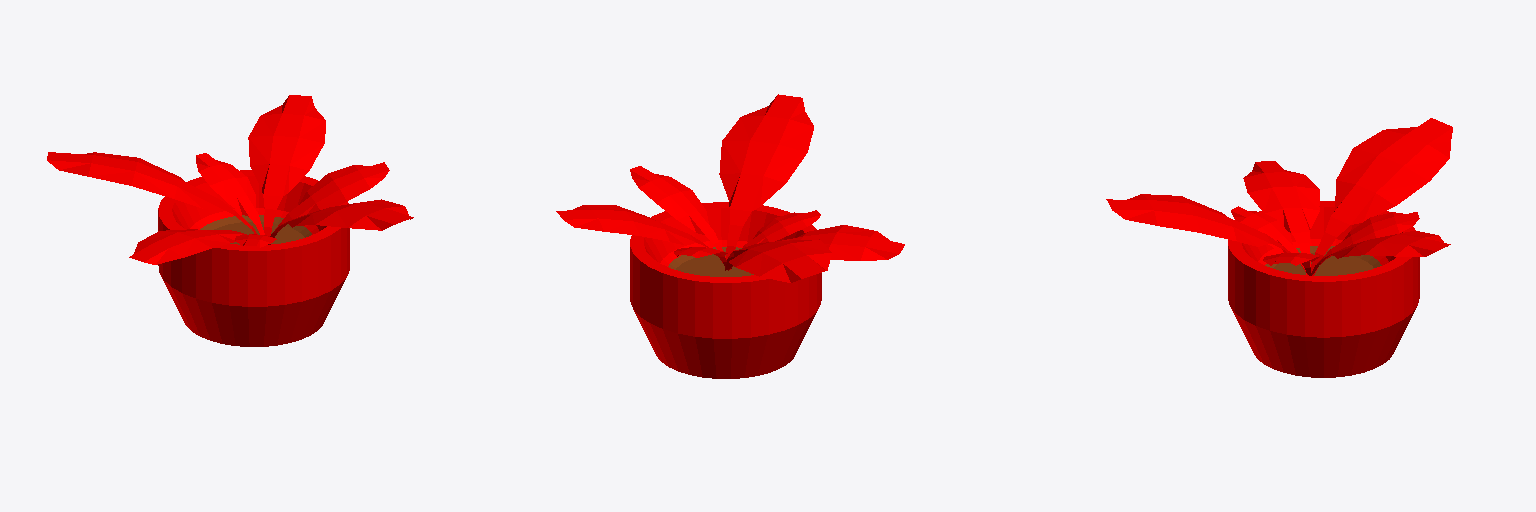
File: pottedPlant.obj
3 renders of one model, left to right at view 1: azimuth 30°, elevation 25°; view 2: azimuth 150°, elevation 25°; view 3: azimuth 270°, elevation 25°, orthographic.
Visible parts, largest first — view 1: Plant1.001_Cylinder.012; view 2: Plant1.001_Cylinder.012; view 3: Plant1.001_Cylinder.012.
Boxes of the visible parts, box(x1,y1,x2,y2) form: Plant1.001_Cylinder.012: box(47, 95, 413, 346); Plant1.001_Cylinder.012: box(556, 94, 904, 378); Plant1.001_Cylinder.012: box(1106, 118, 1452, 377).
Bounding box in the file's own units: 0.5413 × 0.3169 × 0.6078.